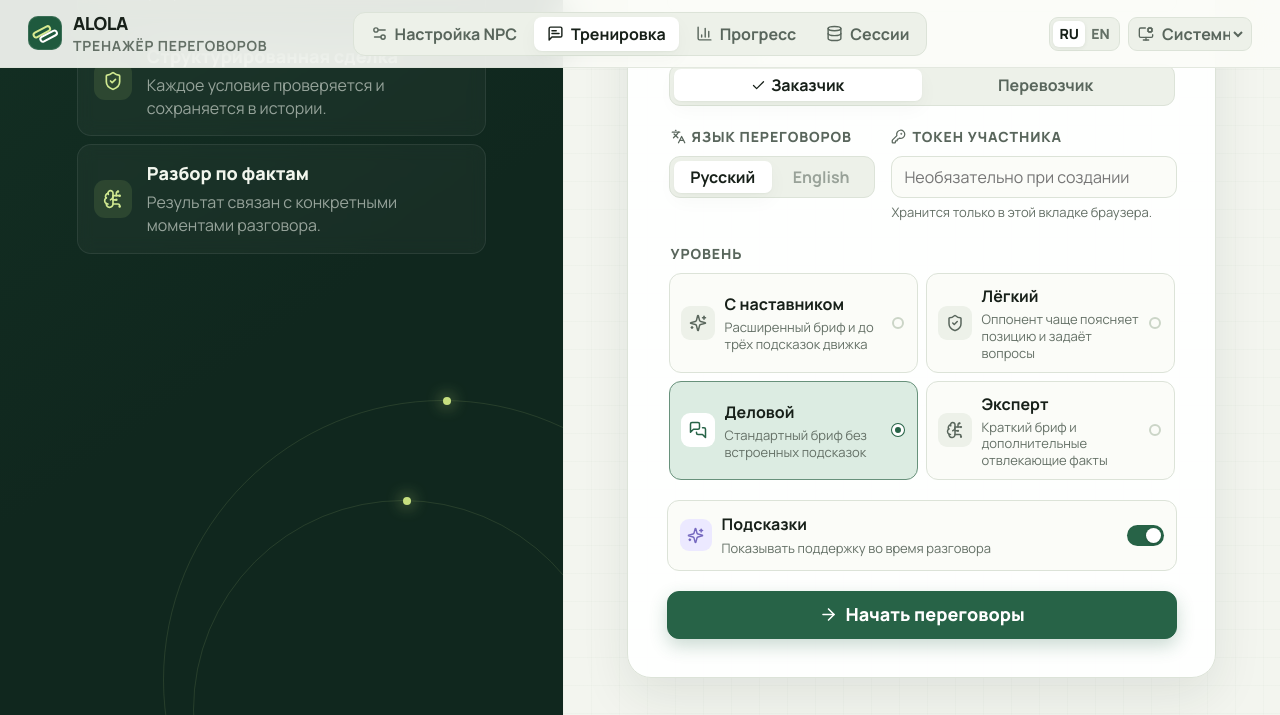
Test: session persistence › coaches only on request and switches to a retry with fresh participant credentials
(page scrolled)
Click the button "Начать переговоры": (922, 615) top-left (667, 591), bottom-right (1177, 639)
(page scrolled)
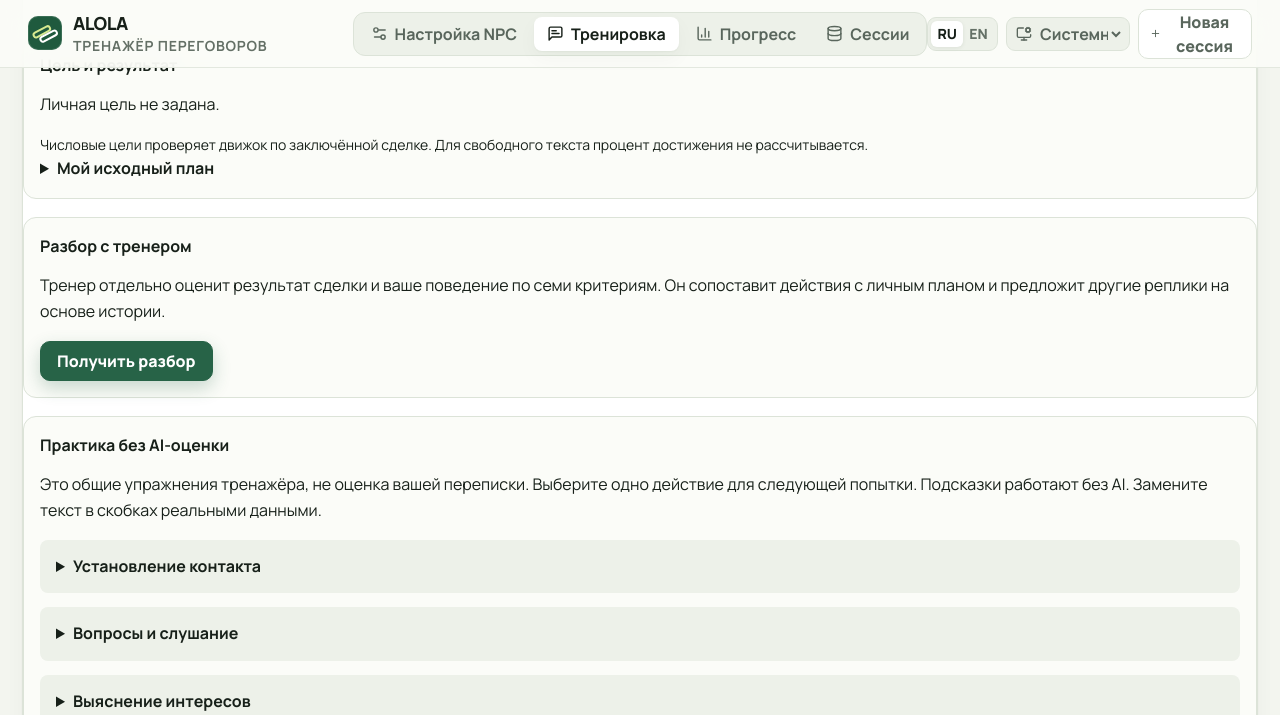
Result: the button "Получить разбор" is shown
Click the button "Получить разбор": (126, 361) top-left (40, 341), bottom-right (213, 381)
(page scrolled)
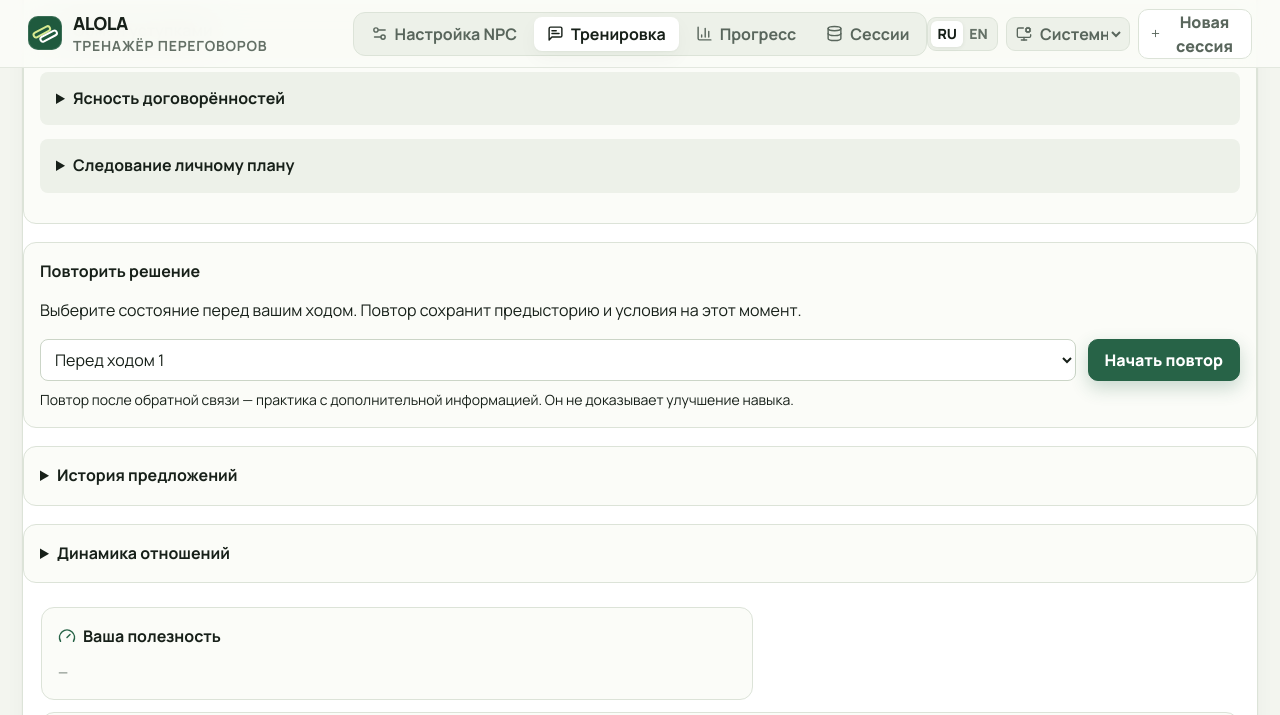
Click the button "Начать повтор": (1164, 360) top-left (1088, 339), bottom-right (1240, 381)
(page scrolled)
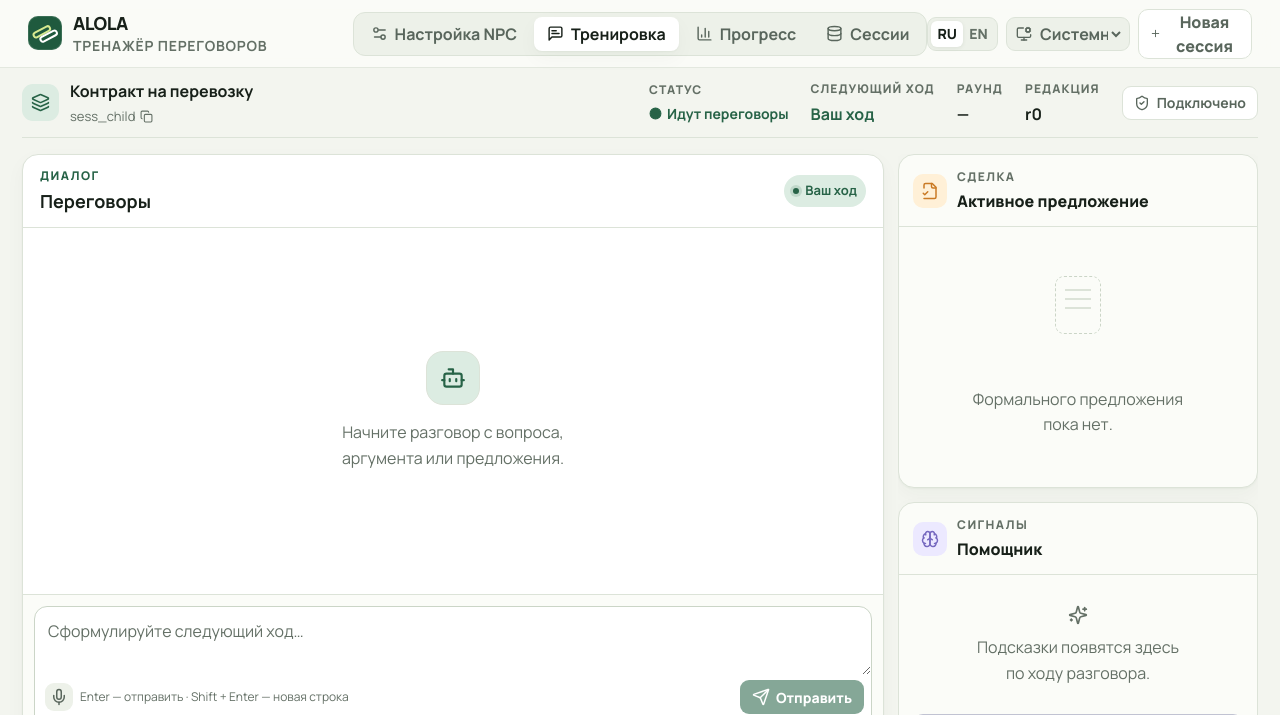
Result: the text "sess_child" is shown at top-left (70, 106), bottom-right (135, 126)
